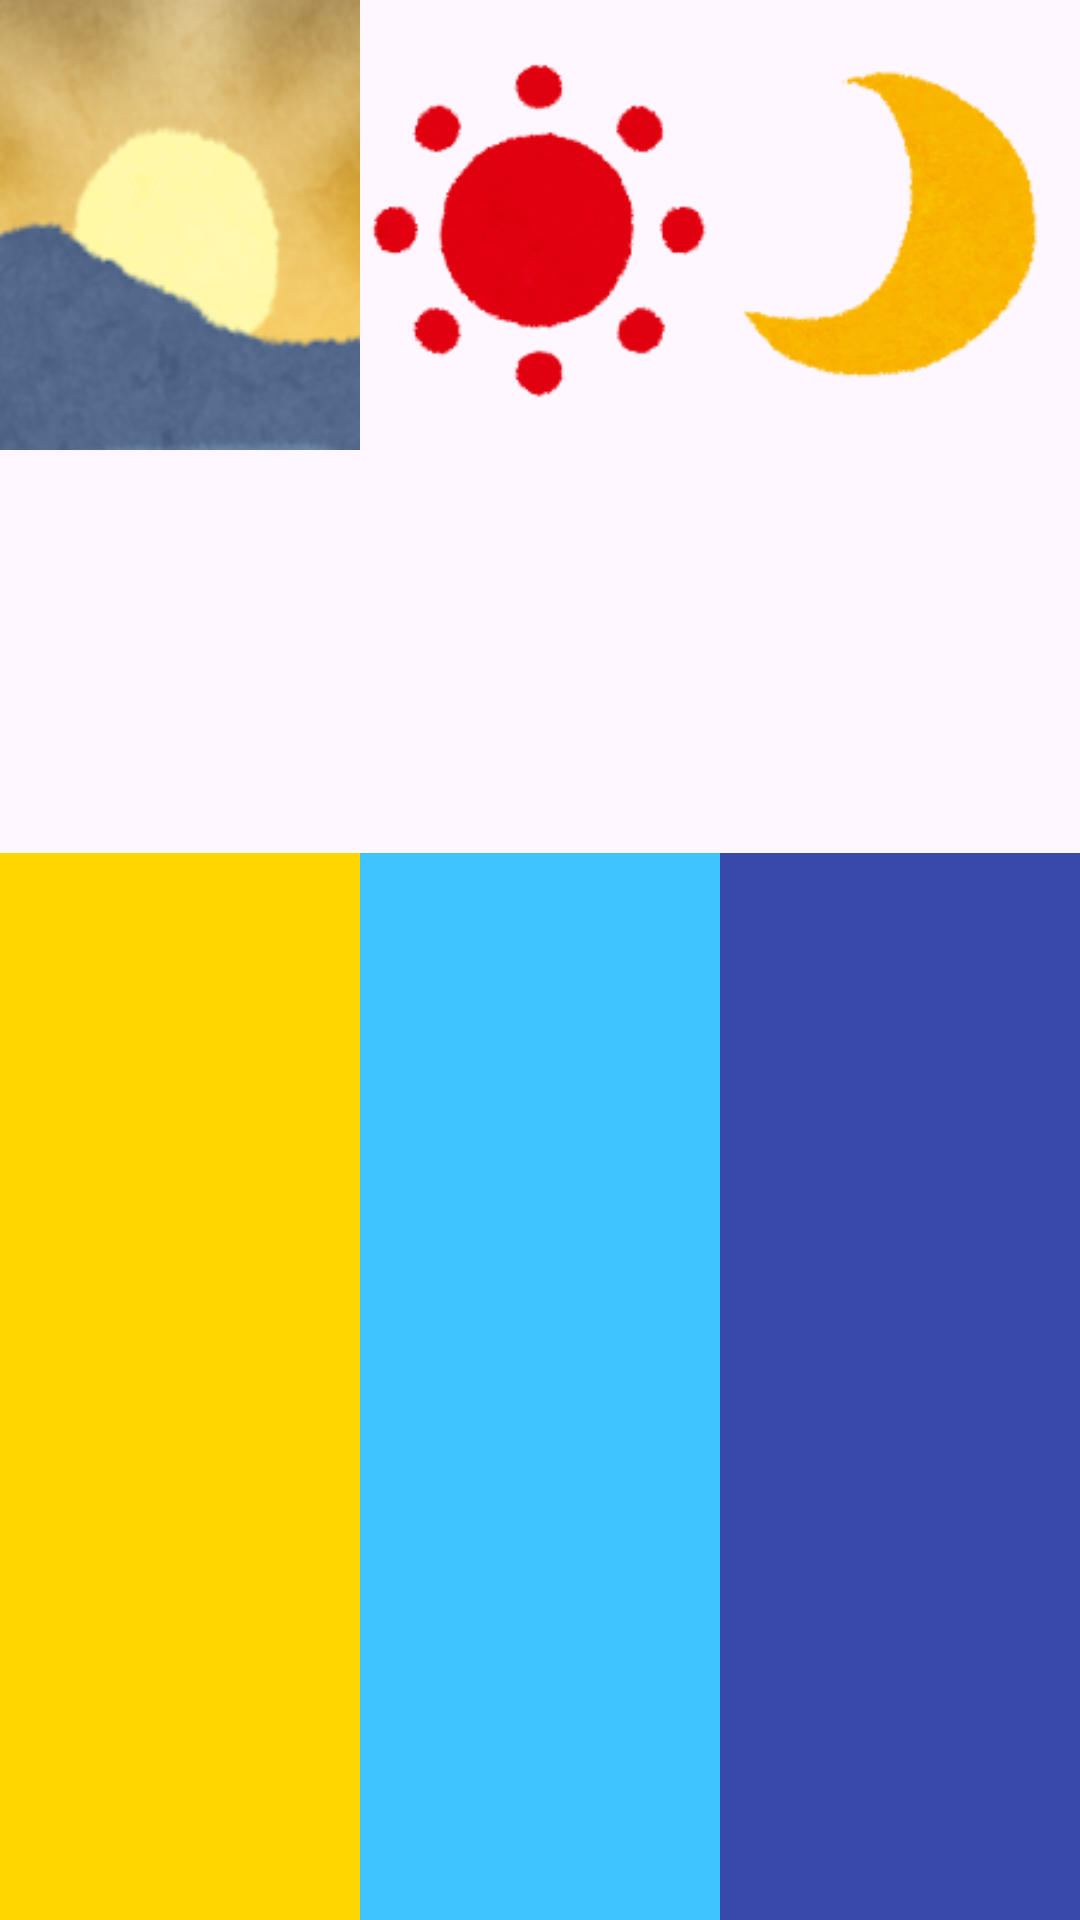

Icons on this 1080 x 1920 Android screen, each with its box as (x1, y1, x2, y2):
mark tenki hare: (373, 64, 706, 397)
mark tenki moon: (743, 71, 1037, 377)
